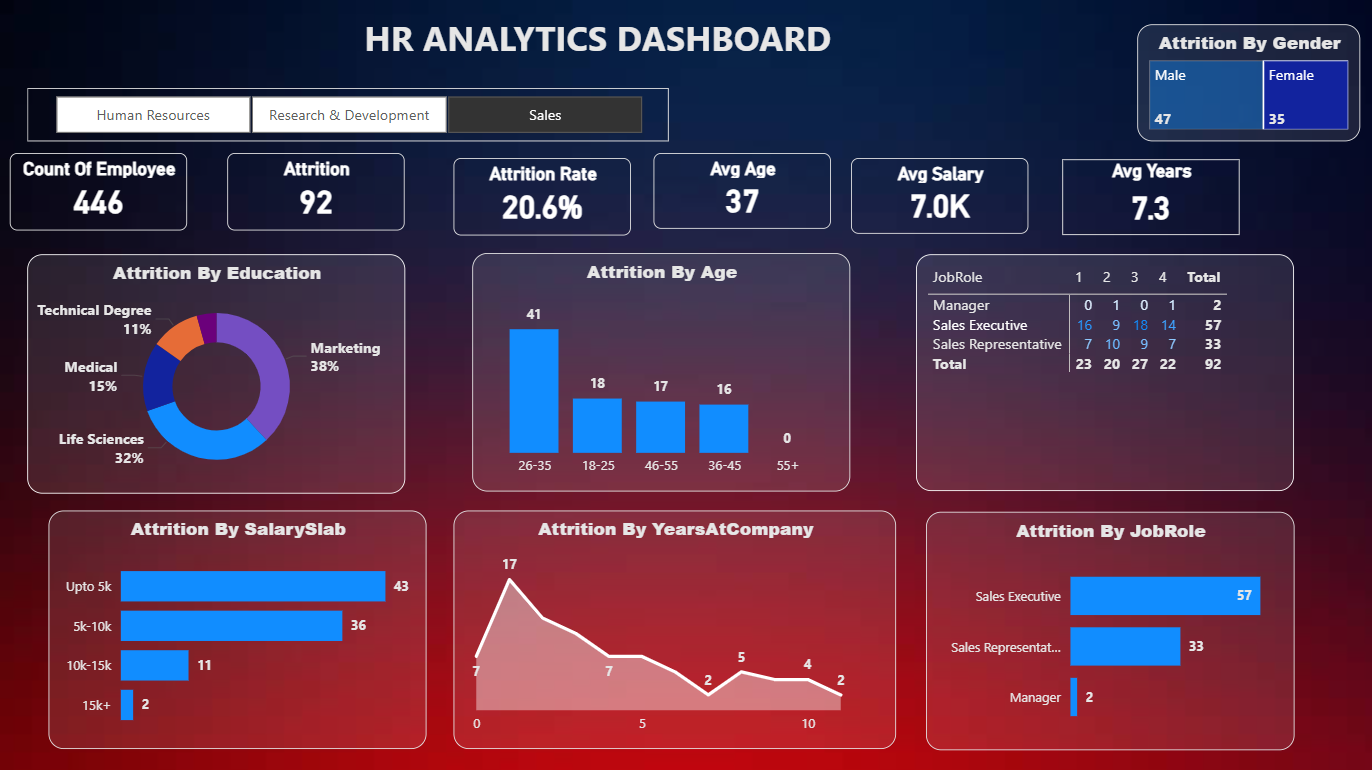

Layout of this report page (visuals, bound fields, positions):
{"tool":"powerbi","page":{"name":"Page 1","canvas":[1280,720],"ordinal":0},"visuals":[{"type":"card","title":"Count Of Employee","fields":{"Values":["Count(HR_Analytics (2).EmpID)"]},"box":[13.1,144.1,165.1,72.1],"z":0},{"type":"card","title":"Attrition","fields":{"Values":["Sum(HR_Analytics (2).AttritionCount)"]},"box":[214.9,144.1,165.1,72.1],"z":1000},{"type":"card","title":"Attrition Rate","fields":{"Values":["HR_Analytics (2).AttritionRate"]},"box":[424.6,148.1,165.1,72.1],"z":2000},{"type":"card","title":"Avg Age","fields":{"Values":["Avg(HR_Analytics (2).Age)"]},"box":[610.6,144.1,165.1,70.8],"z":3000},{"type":"card","title":"Avg Years","fields":{"Values":["Avg(HR_Analytics (2).YearsAtCompany)"]},"box":[990.7,149.4,165.1,70.8],"z":4000},{"type":"card","title":"Avg Salary","fields":{"Values":["Avg(HR_Analytics (2).MonthlyIncome)"]},"box":[794.1,148.1,165.1,70.8],"z":5000},{"type":"donutChart","title":"Attrition By Education","fields":{"Category":["HR_Analytics (2).EducationField"],"Y":["Sum(HR_Analytics (2).AttritionCount)"]},"box":[28.8,238.5,351.2,222.8],"z":6000},{"type":"columnChart","title":"Attrition By Age","fields":{"Category":["HR_Analytics (2).AgeGroup"],"Y":["Sum(HR_Analytics (2).AttritionCount)"]},"box":[442.9,237.2,351.2,221.5],"z":7000},{"type":"pivotTable","fields":{"Rows":["HR_Analytics (2).JobRole"],"Columns":["HR_Analytics (2).JobSatisfaction"],"Values":["Sum(HR_Analytics (2).AttritionCount)"]},"box":[854.4,238.5,351.2,220.1],"z":8000},{"type":"barChart","title":"Attrition By SalarySlab","fields":{"Category":["HR_Analytics (2).SalarySlab"],"Y":["Sum(HR_Analytics (2).AttritionCount)"]},"box":[48.5,475.7,351.2,221.5],"z":8001},{"type":"barChart","title":"Attrition By JobRole","fields":{"Category":["HR_Analytics (2).JobRole"],"Y":["Sum(HR_Analytics (2).AttritionCount)"]},"box":[863.6,477,342,221.5],"z":8002},{"type":"areaChart","title":"Attrition By YearsAtCompany","fields":{"Category":["HR_Analytics (2).YearsAtCompany"],"Y":["Sum(HR_Analytics (2).AttritionCount)"]},"box":[424.6,475.7,411.5,221.5],"z":8003},{"type":"treemap","title":"Attrition By Age","fields":{"Group":["HR_Analytics (2).Gender"],"Values":["Sum(HR_Analytics (2).AttritionCount)"]},"box":[1060.1,24.9,207,108.8],"z":8004},{"type":"slicer","fields":{"Values":["HR_Analytics (2).Department"]},"box":[28.8,83.9,596.2,49.8],"z":8005},{"type":"textbox","box":[83.9,10.5,951.4,57.7],"z":8006}]}

Visuals, with their boxes in screenshot pixels (x1, y1, x2, y2), scaled from the page's 1280x720 canvas onto the 1372x770 screenshot:
"Count Of Employee" card: BBox(14, 154, 191, 231)
"Attrition" card: BBox(230, 154, 407, 231)
"Attrition Rate" card: BBox(455, 158, 632, 235)
"Avg Age" card: BBox(654, 154, 831, 230)
"Avg Years" card: BBox(1062, 160, 1239, 235)
"Avg Salary" card: BBox(851, 158, 1028, 234)
"Attrition By Education" donutChart: BBox(31, 255, 407, 493)
"Attrition By Age" columnChart: BBox(475, 254, 851, 491)
pivotTable - HR_Analytics (2).JobRole x HR_Analytics (2).JobSatisfaction: BBox(916, 255, 1292, 490)
"Attrition By SalarySlab" barChart: BBox(52, 509, 428, 746)
"Attrition By JobRole" barChart: BBox(926, 510, 1292, 747)
"Attrition By YearsAtCompany" areaChart: BBox(455, 509, 896, 746)
"Attrition By Age" treemap: BBox(1136, 27, 1358, 143)
slicer - HR_Analytics (2).Department: BBox(31, 90, 670, 143)
textbox: BBox(90, 11, 1110, 73)
